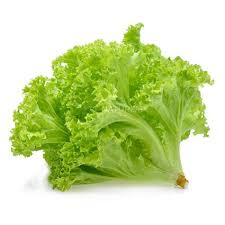lettuce: (2, 23, 213, 194)
